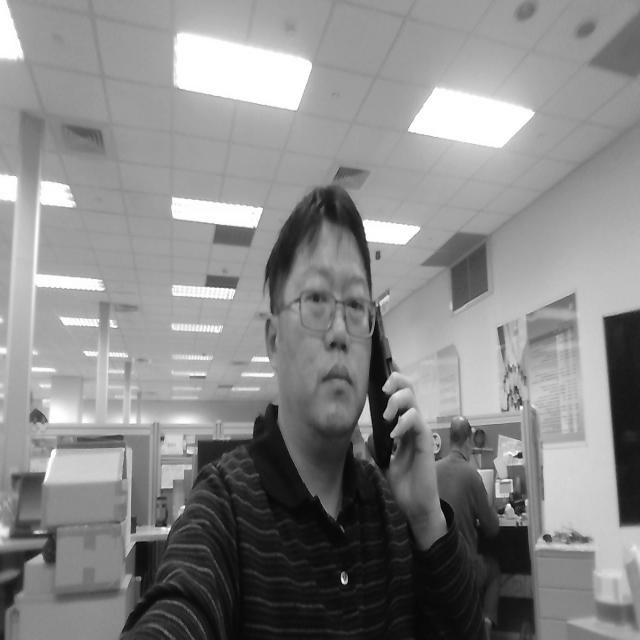phone: (358, 279, 418, 482)
